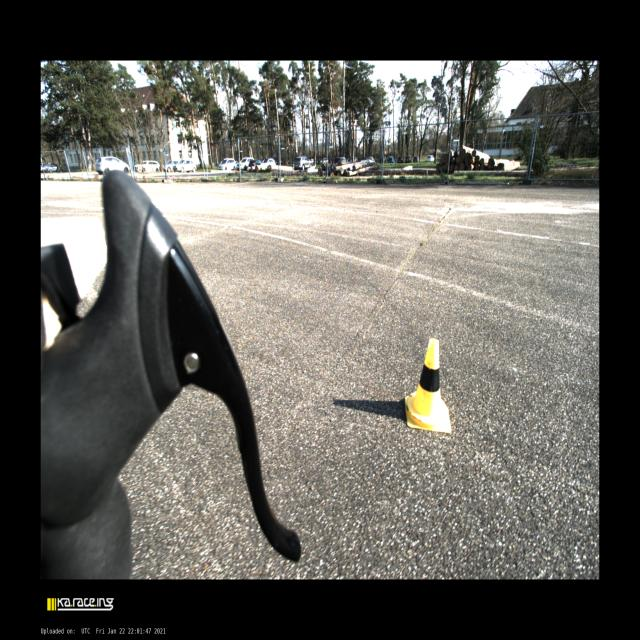yellow_cone: (405, 338, 451, 433)
